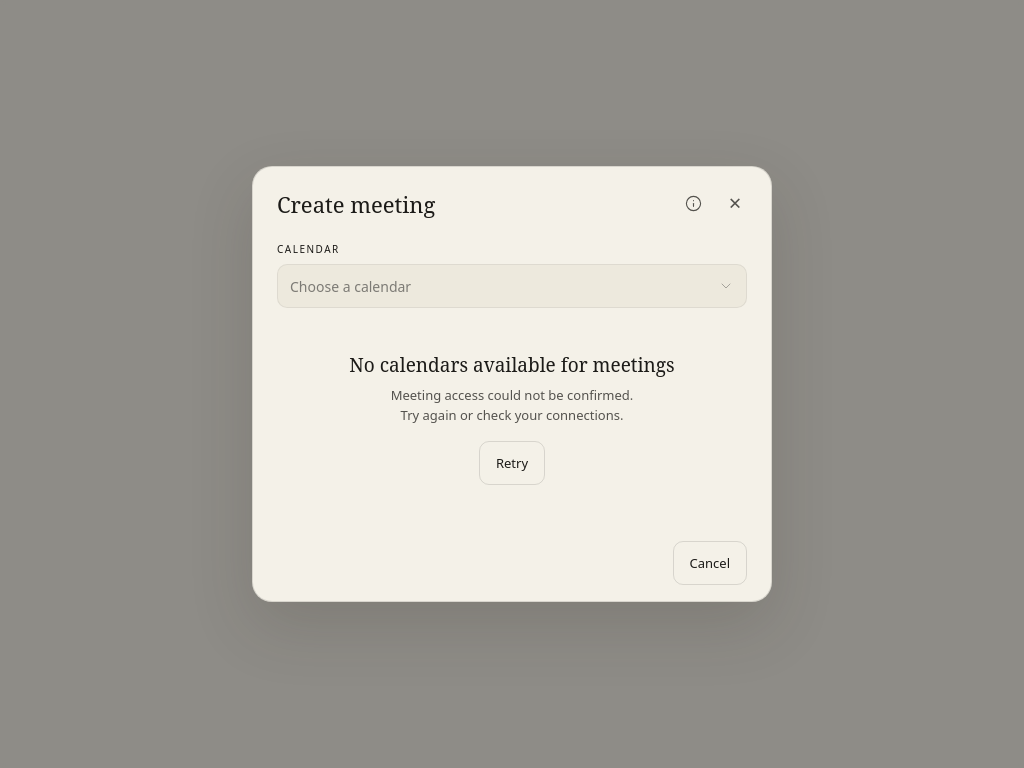
Test case: shows an honest empty state and retries capability checks without writing
The width and height of the screenshot is (1024, 768).
expect the heading "No calendars available for meetings" is shown: met, box [349,352,675,378]
expect the button "Create and send invitations" is not shown: met
Click the button "Retry": {"x": 512, "y": 463} [479,441,545,485]
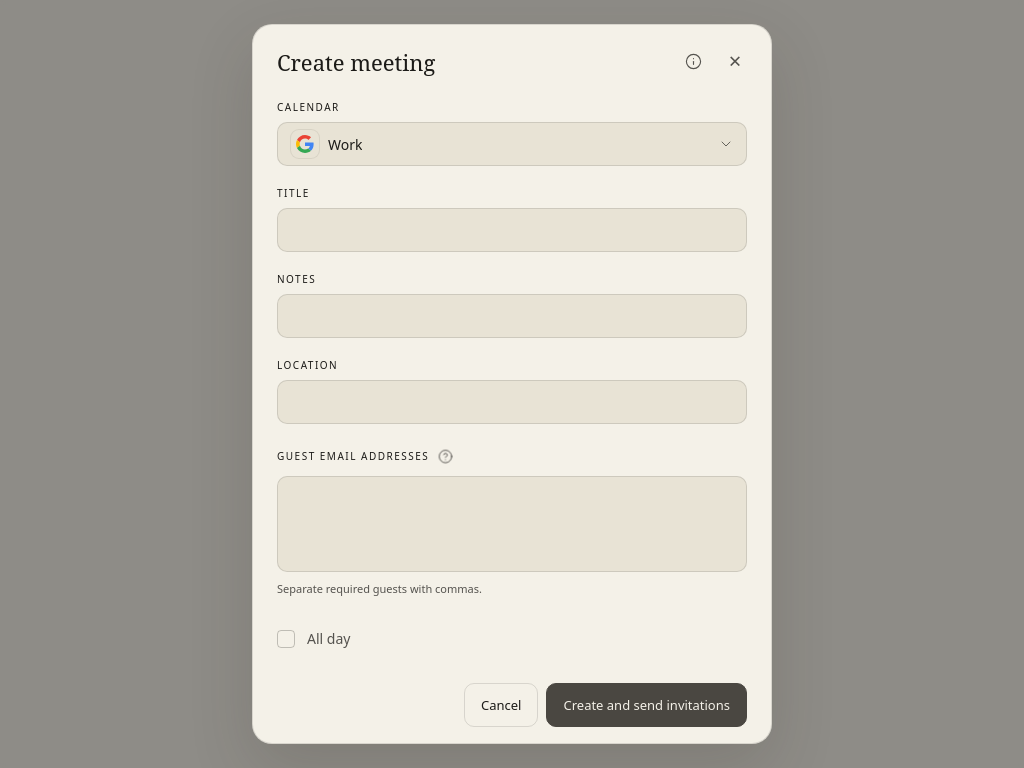
expect the field labelled "Title" is shown: met, box [277,208,747,252]
